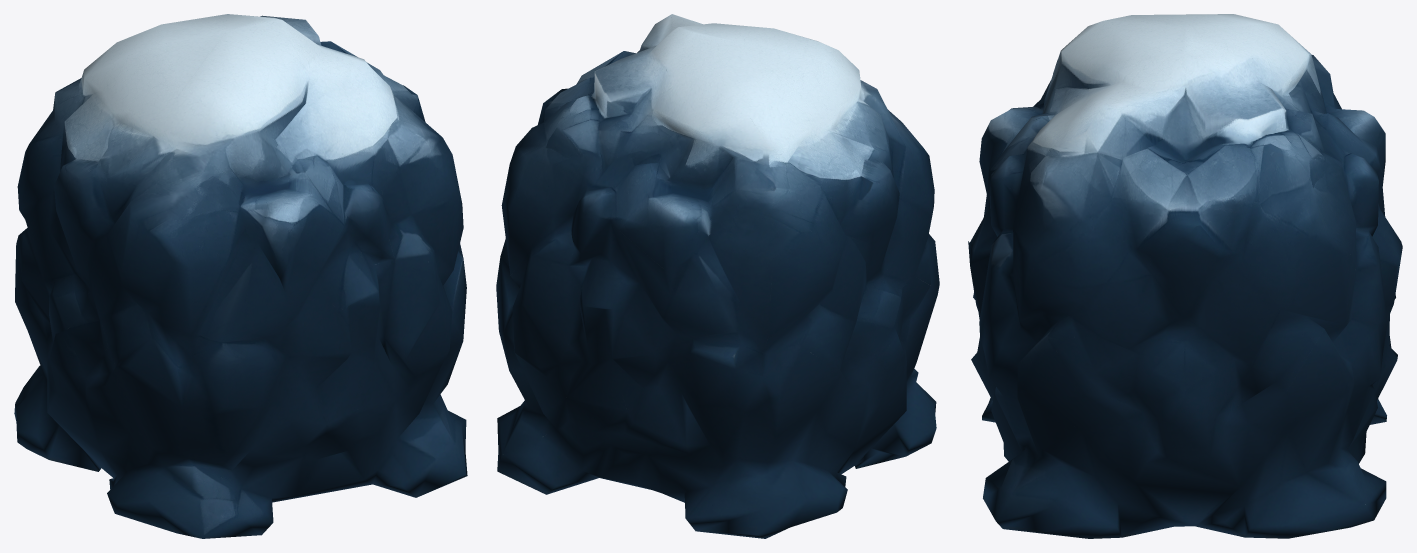
The model's file is snow_boulder.glb.
3 views of the same model, side by side, from view 1: azimuth 30°, elevation 25°; view 2: azimuth 150°, elevation 25°; view 3: azimuth 270°, elevation 25° (orthographic). The views are drawn at different scales.
Size of the model in its own units: 1.71 by 1.84 by 1.7.
1 material, 1 textured.
